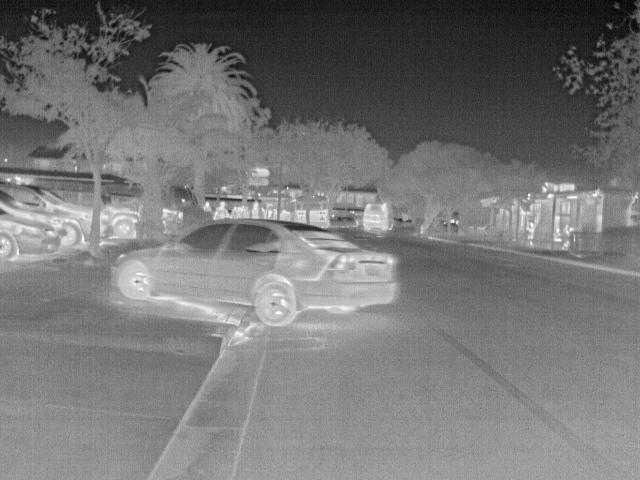car: (111, 218, 399, 328), (1, 183, 96, 249), (1, 206, 62, 266), (102, 203, 141, 239), (163, 206, 183, 227)
person: (211, 199, 231, 219), (525, 219, 538, 239), (552, 226, 564, 241)
